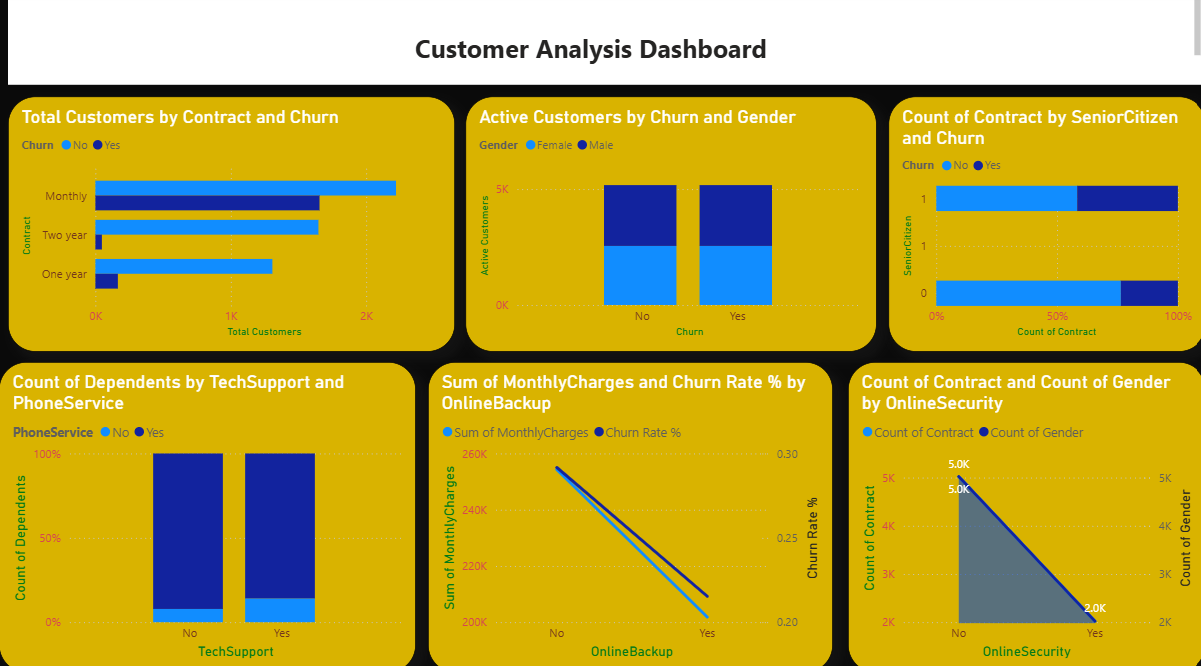

Layout of this report page (visuals, bound fields, positions):
{"tool":"powerbi","page":{"name":"Page 2","canvas":[1280,720],"ordinal":1},"visuals":[{"type":"textbox","box":[9.7,0,1271.1,97.2],"z":0},{"type":"clusteredBarChart","fields":{"Series":["churn_analysis telecom_churn.Churn"],"Y":["churn_analysis telecom_churn.Total Customers"],"Category":["churn_analysis telecom_churn.Contract"]},"box":[9.5,109.8,474,270.4],"z":1},{"type":"columnChart","fields":{"Series":["churn_analysis telecom_churn.Gender"],"Category":["churn_analysis telecom_churn.Churn"],"Y":["churn_analysis telecom_churn.Active Customers"]},"box":[494.7,109.8,435.8,270.4],"z":2},{"type":"hundredPercentStackedBarChart","fields":{"Category":["churn_analysis telecom_churn.SeniorCitizen"],"Y":["CountNonNull(churn_analysis telecom_churn.Contract)"],"Series":["churn_analysis telecom_churn.Churn"]},"box":[943.2,109.8,337.2,270.4],"z":3},{"type":"hundredPercentStackedColumnChart","fields":{"Y":["CountNonNull(churn_analysis telecom_churn.Dependents)"],"Category":["churn_analysis telecom_churn.TechSupport"],"Series":["churn_analysis telecom_churn.PhoneService"]},"box":[0,391.3,442.2,329.3],"z":4},{"type":"lineChart","fields":{"Y2":["churn_analysis telecom_churn.Churn Rate %"],"Y":["Sum(churn_analysis telecom_churn.MonthlyCharges)"],"Category":["churn_analysis telecom_churn.OnlineBackup"]},"box":[454.9,391.3,429.5,329.3],"z":5},{"type":"areaChart","fields":{"Category":["churn_analysis telecom_churn.OnlineSecurity"],"Y":["CountNonNull(churn_analysis telecom_churn.Contract)"],"Y2":["CountNonNull(churn_analysis telecom_churn.Gender)"]},"box":[900.3,391.3,380.2,329.3],"z":6}]}

Visuals, with their boxes in screenshot pixels (x1, y1, x2, y2), scaled from the page's 1280x720 canvas onto the 1201x666 screenshot:
textbox: {"x1": 9, "y1": 0, "x2": 1200, "y2": 90}
clusteredBarChart - churn_analysis telecom_churn.Churn x churn_analysis telecom_churn.Total Customers: {"x1": 9, "y1": 102, "x2": 454, "y2": 352}
columnChart - churn_analysis telecom_churn.Gender x churn_analysis telecom_churn.Churn: {"x1": 464, "y1": 102, "x2": 873, "y2": 352}
hundredPercentStackedBarChart - churn_analysis telecom_churn.SeniorCitizen x CountNonNull(churn_analysis telecom_churn.Contract): {"x1": 885, "y1": 102, "x2": 1200, "y2": 352}
hundredPercentStackedColumnChart - CountNonNull(churn_analysis telecom_churn.Dependents) x churn_analysis telecom_churn.TechSupport: {"x1": 0, "y1": 362, "x2": 415, "y2": 665}
lineChart - churn_analysis telecom_churn.Churn Rate % x Sum(churn_analysis telecom_churn.MonthlyCharges): {"x1": 427, "y1": 362, "x2": 830, "y2": 665}
areaChart - churn_analysis telecom_churn.OnlineSecurity x CountNonNull(churn_analysis telecom_churn.Contract): {"x1": 845, "y1": 362, "x2": 1200, "y2": 665}
